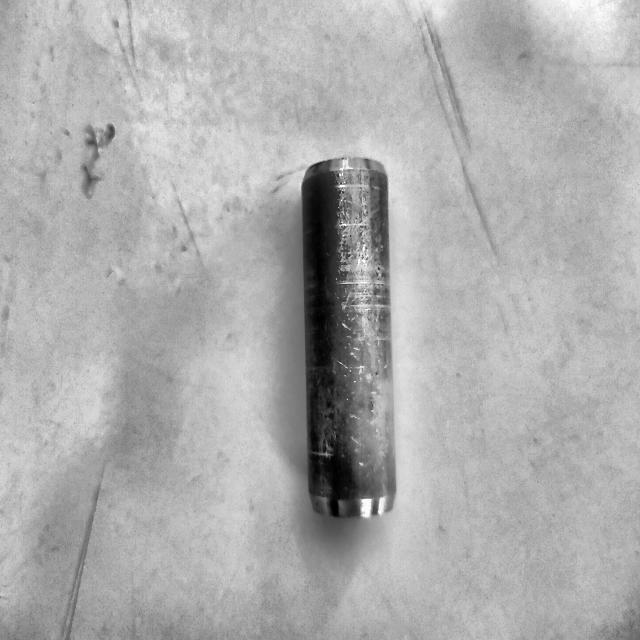Broken: (299, 154, 399, 522)
